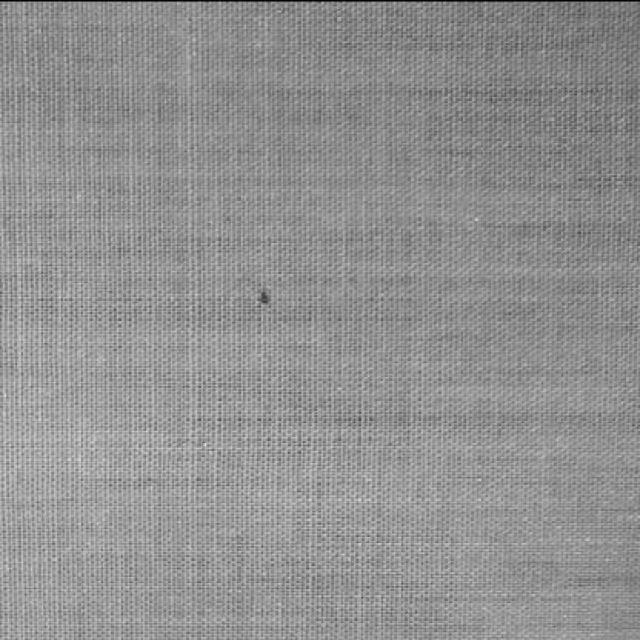other: (214, 240, 324, 364)
